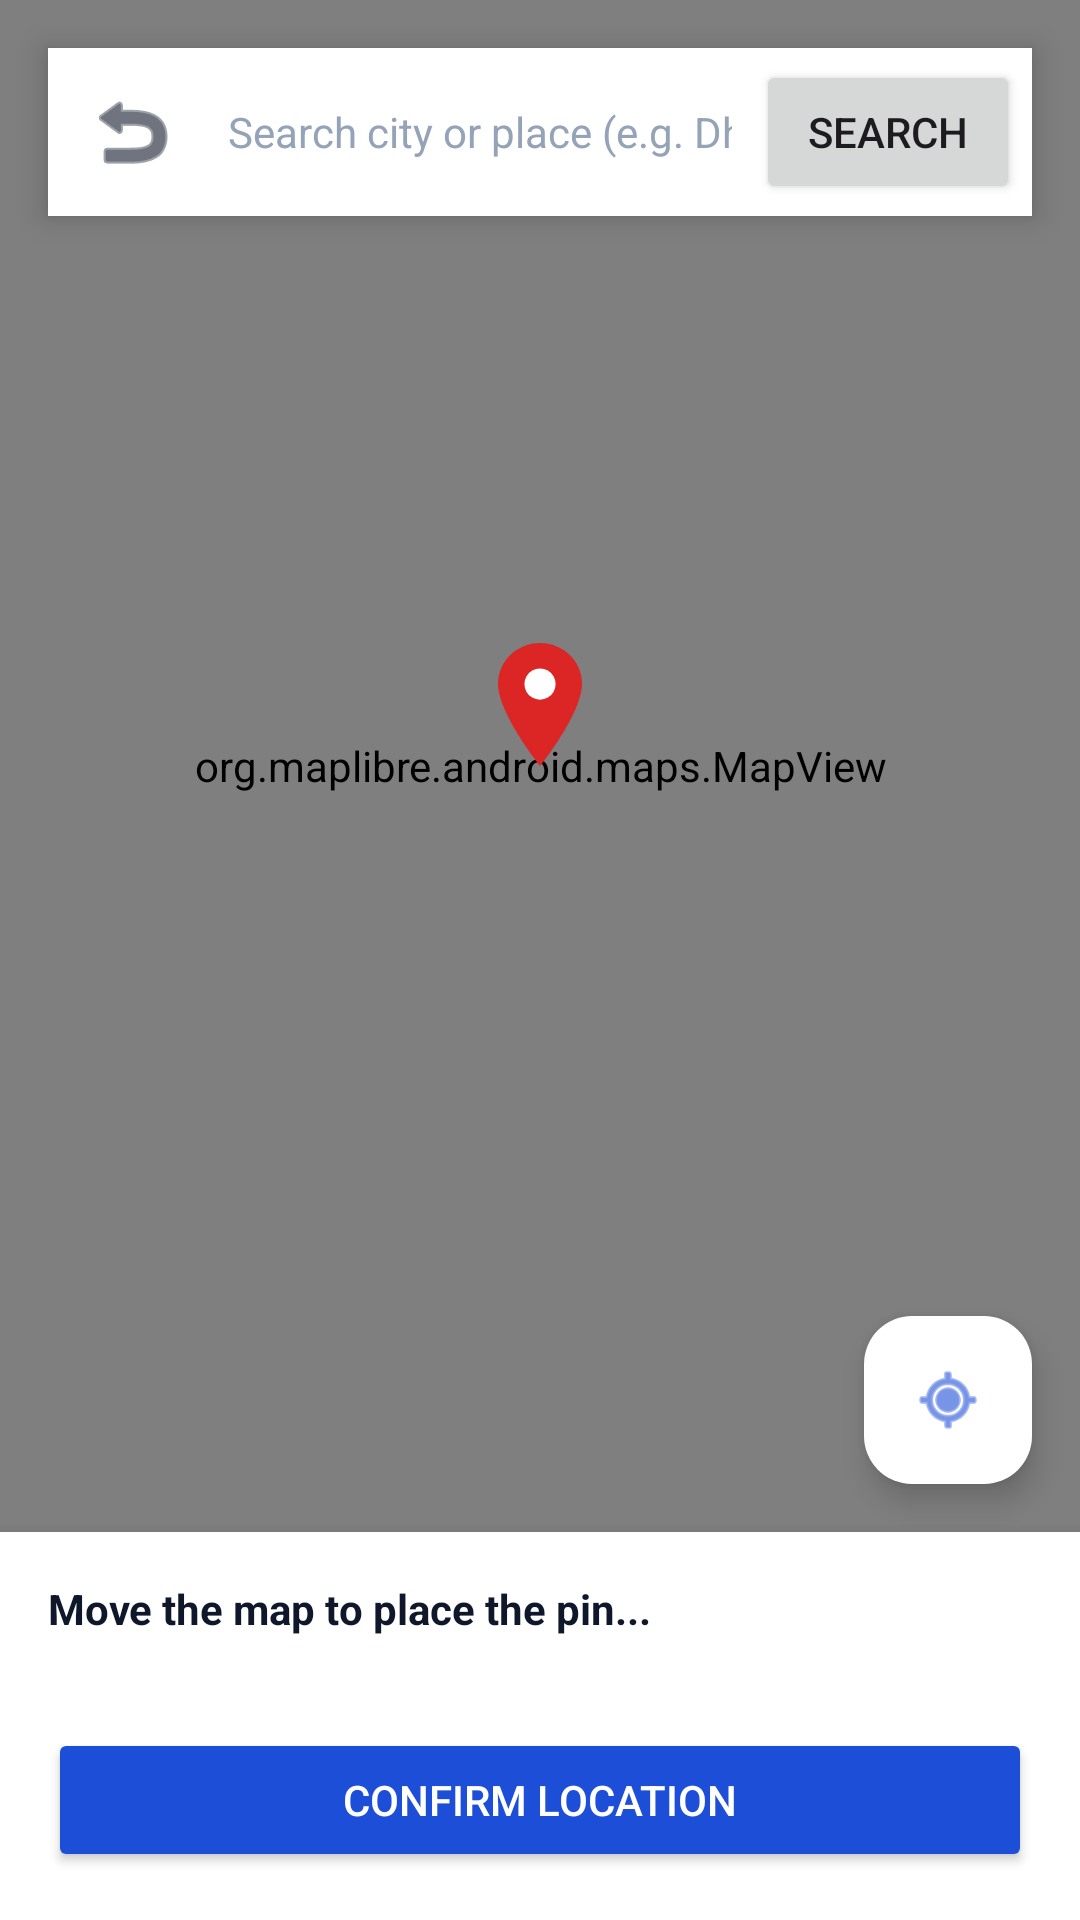

Icons on this 1080×1920 Android screen, each with the point to tap as (x=x, y=y):
Back: (x=133, y=132)
My Location: (x=948, y=1400)
